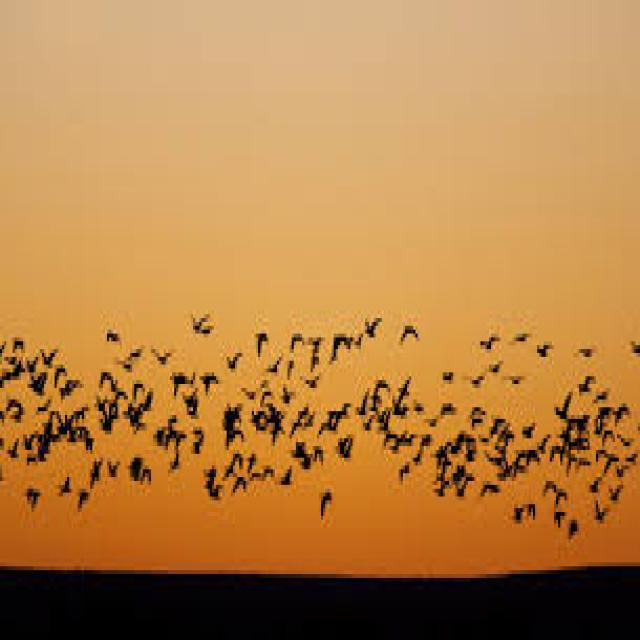bird: (389, 310, 427, 349), (311, 481, 334, 532), (252, 324, 280, 363), (100, 316, 130, 351), (202, 460, 220, 518), (392, 370, 416, 410), (298, 362, 323, 398), (358, 310, 386, 342), (448, 471, 473, 506), (202, 361, 222, 404), (480, 471, 502, 510), (144, 340, 172, 370), (475, 332, 503, 362), (172, 358, 195, 394), (553, 384, 574, 423), (500, 368, 528, 396), (222, 340, 245, 374), (533, 473, 558, 504), (288, 322, 310, 357), (574, 343, 606, 367), (532, 336, 557, 366), (188, 306, 211, 338), (592, 490, 610, 530), (2, 386, 25, 417), (19, 475, 42, 506), (162, 446, 182, 481), (334, 384, 348, 434), (510, 496, 529, 532), (28, 370, 52, 398), (52, 468, 74, 498), (4, 432, 25, 463), (467, 367, 488, 398), (534, 427, 555, 458), (517, 411, 538, 442), (41, 336, 60, 370), (356, 384, 372, 423), (106, 452, 123, 487), (551, 480, 574, 504), (138, 458, 156, 488), (612, 394, 630, 424), (70, 370, 89, 398), (76, 488, 92, 520), (279, 470, 296, 500), (583, 468, 600, 498), (610, 485, 626, 516), (8, 330, 26, 357), (128, 377, 143, 408), (277, 382, 292, 413), (230, 479, 248, 502), (96, 366, 114, 386), (192, 432, 205, 456)
